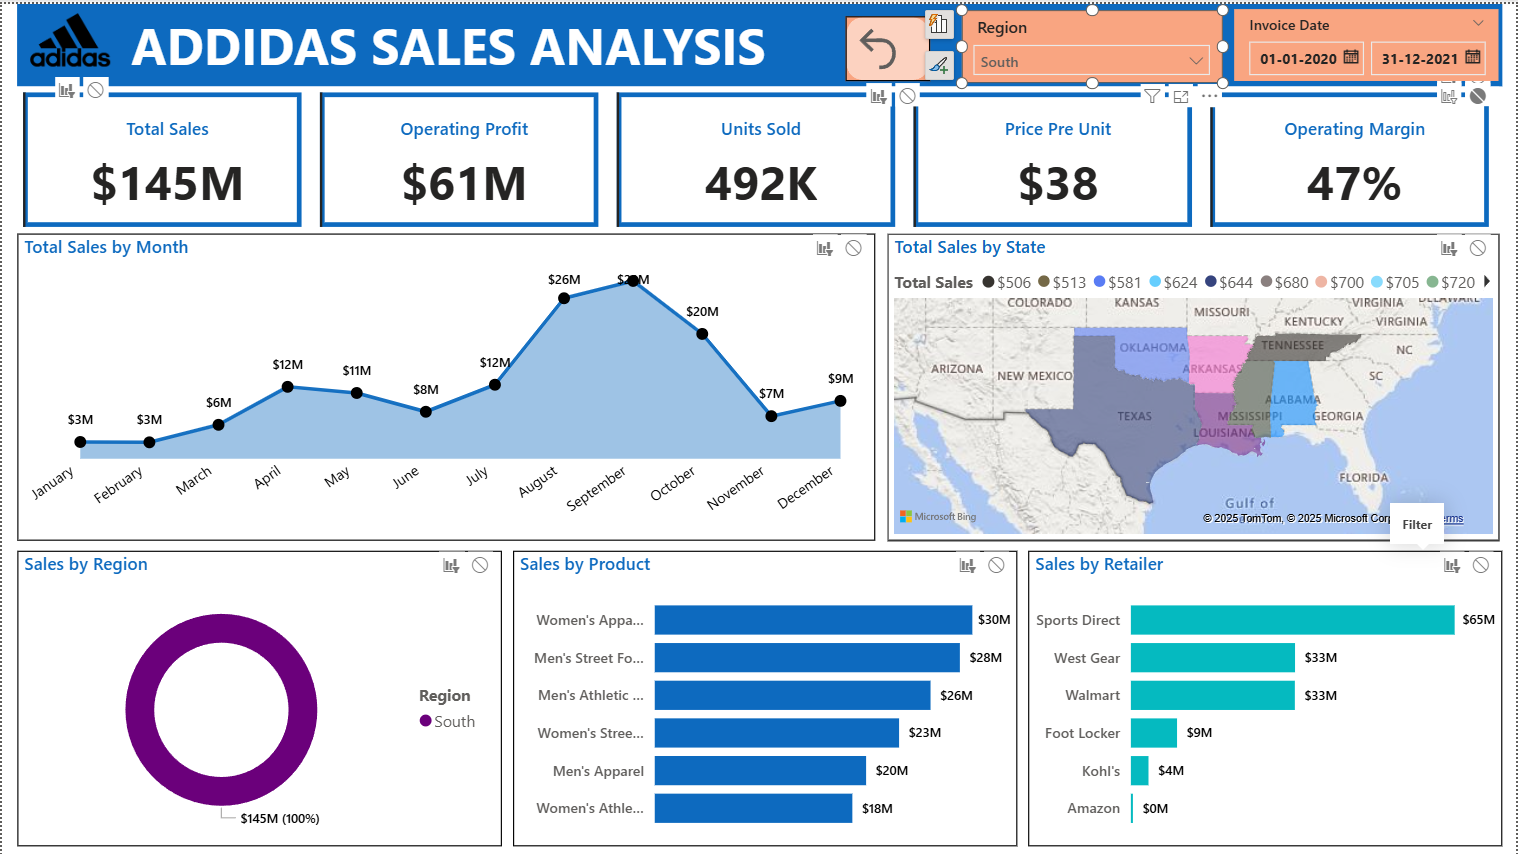

The dashboard page shown, as its layout file describes it:
{"tool":"powerbi","page":{"name":"Page 1","canvas":[1280,720],"ordinal":0},"visuals":[{"type":"shape","box":[13,0,1255.6,69.5],"z":0},{"type":"textbox","box":[104.6,0.9,628.4,68.8],"z":1000},{"type":"cardVisual","fields":{"Data":["Sum(Data Sales Adidas.Total Sales)","Sum(Data Sales Adidas.Operating Profit)","Sum(Data Sales Adidas.Units Sold)","Avg(Data Sales Adidas.Price per Unit)","Avg(Data Sales Adidas.Operating Margin)"]},"box":[13,69.5,1253.4,124.9],"z":2000},{"type":"areaChart","title":"Total Sales by Month","fields":{"Category":["Data Sales Adidas.Invoice Date.Variation.Date Hierarchy.Month"],"Y":["Sum(Data Sales Adidas.Total Sales)"]},"box":[13,194.4,725.5,259.6],"z":3000},{"type":"filledMap","title":"Total Sales by State","fields":{"Category":["Data Sales Adidas.State"],"Series":["Data Sales Adidas.Total Sales"]},"box":[748.3,194.4,518.1,259.6],"z":4000},{"type":"donutChart","title":"Sales by Region","fields":{"Category":["Data Sales Adidas.Region"],"Y":["Sum(Data Sales Adidas.Total Sales)"]},"box":[13,462.7,409.5,249.8],"z":5000},{"type":"barChart","title":"Sales by Product","fields":{"Category":["Data Sales Adidas.Product"],"Y":["Sum(Data Sales Adidas.Total Sales)"]},"box":[432.3,462.7,426.8,249.8],"z":6000},{"type":"barChart","title":"Sales by Retailer","fields":{"Y":["Sum(Data Sales Adidas.Total Sales)"],"Category":["Data Sales Adidas.Retailer"]},"box":[867.8,462.7,400.8,249.8],"z":7000},{"type":"slicer","fields":{"Values":["Data Sales Adidas.Region"]},"box":[811.9,5.5,220.2,60.5],"z":8000},{"type":"slicer","fields":{"Values":["Data Sales Adidas.Invoice Date"]},"box":[1042.2,4.6,223.8,60.5],"z":8001},{"type":"image","box":[19.3,0,78,60.5],"z":8002},{"type":"actionButton","box":[712.8,10.1,71.6,55],"z":8003}]}

Visuals, with their boxes in screenshot pixels (x1, y1, x2, y2):
shape: detection(19, 0, 1488, 81)
textbox: detection(126, 1, 861, 82)
cardVisual - Sum(Data Sales Adidas.Total Sales) x Sum(Data Sales Adidas.Operating Profit): detection(19, 81, 1485, 227)
"Total Sales by Month" areaChart: detection(19, 227, 868, 531)
"Total Sales by State" filledMap: detection(879, 227, 1485, 531)
"Sales by Region" donutChart: detection(19, 541, 498, 833)
"Sales by Product" barChart: detection(510, 541, 1009, 833)
"Sales by Retailer" barChart: detection(1019, 541, 1488, 833)
slicer - Data Sales Adidas.Region: detection(953, 6, 1211, 77)
slicer - Data Sales Adidas.Invoice Date: detection(1223, 5, 1485, 76)
image: detection(27, 0, 118, 71)
actionButton: detection(838, 12, 921, 76)
